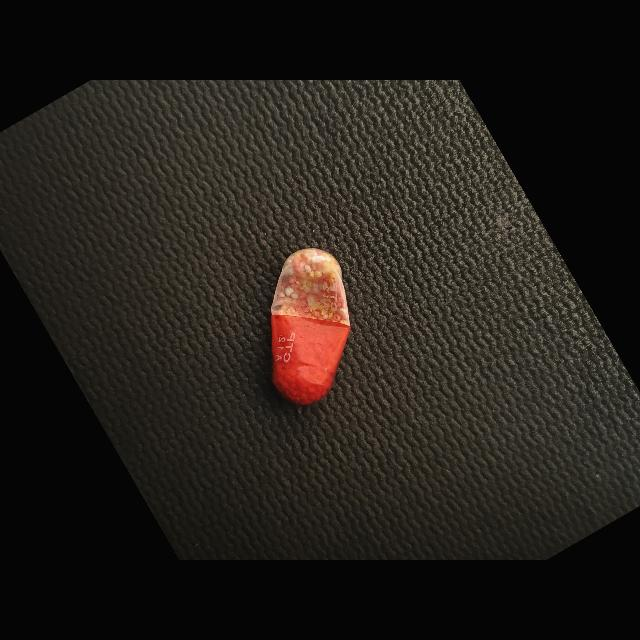Defective Capsule: (271, 248, 351, 405)
